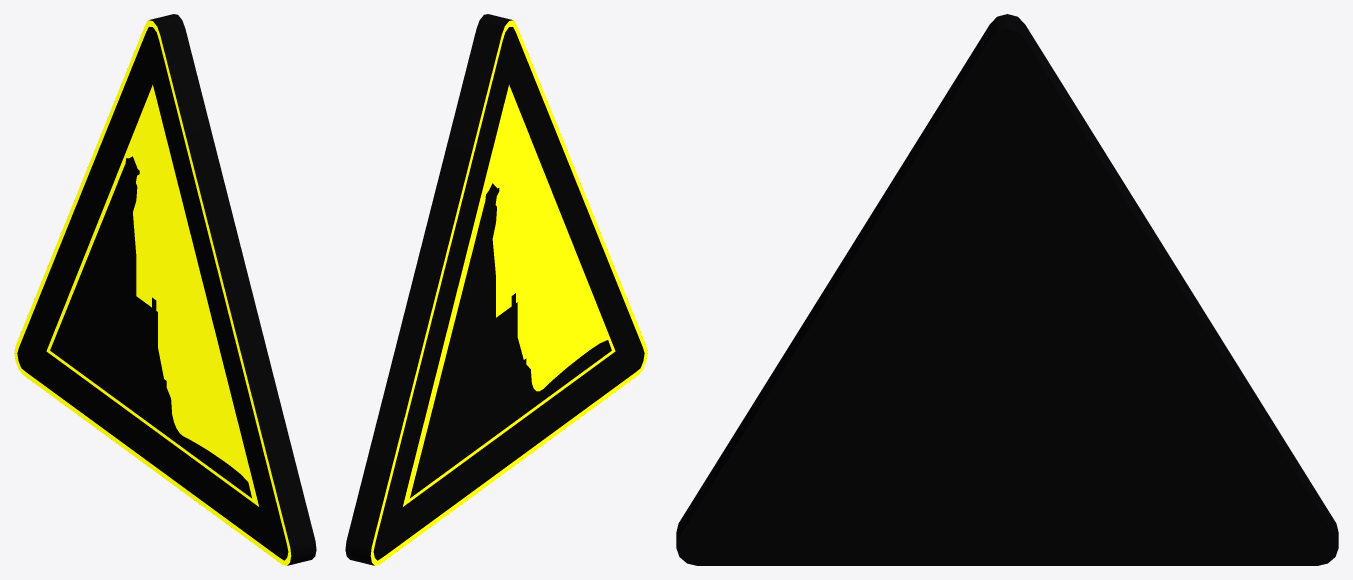
The model's file is Mountain_DropOff_Left.glb.
3 renders of one model, left to right at view 1: azimuth 30°, elevation 25°; view 2: azimuth 150°, elevation 25°; view 3: azimuth 270°, elevation 25°, orthographic. The views are drawn at different scales.
Parts seen in each view (by area): view 1: Mountain_DropOff_Left; view 2: Mountain_DropOff_Left; view 3: Mountain_DropOff_Left.
Boxes of the visible parts, x1,y1,x2,y2 form: Mountain_DropOff_Left: (14, 14, 316, 565); Mountain_DropOff_Left: (345, 14, 647, 565); Mountain_DropOff_Left: (676, 14, 1338, 565).
Size of the model in its own units: 0.0642 by 1.02 by 1.14.
